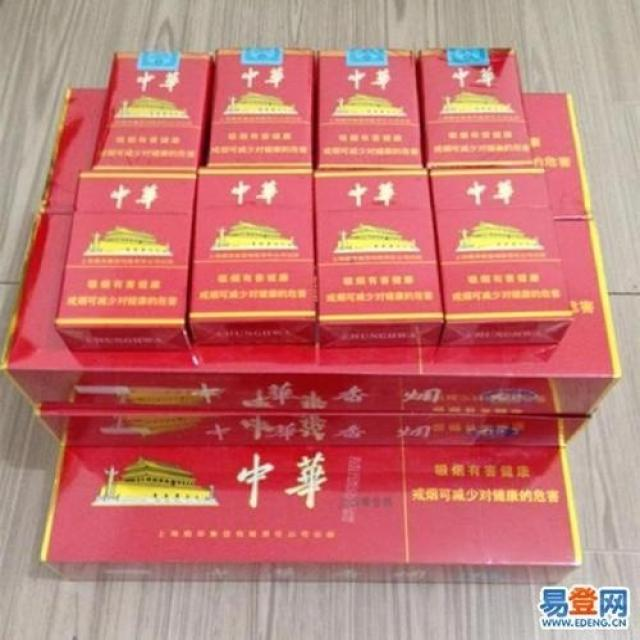box: (0, 214, 623, 416), (41, 450, 582, 585), (429, 168, 576, 347), (55, 170, 197, 353), (312, 169, 445, 348), (187, 168, 317, 347), (35, 413, 590, 449), (91, 52, 212, 169), (419, 48, 532, 167), (206, 48, 314, 167), (317, 50, 424, 168), (522, 92, 594, 219), (40, 88, 108, 214)
